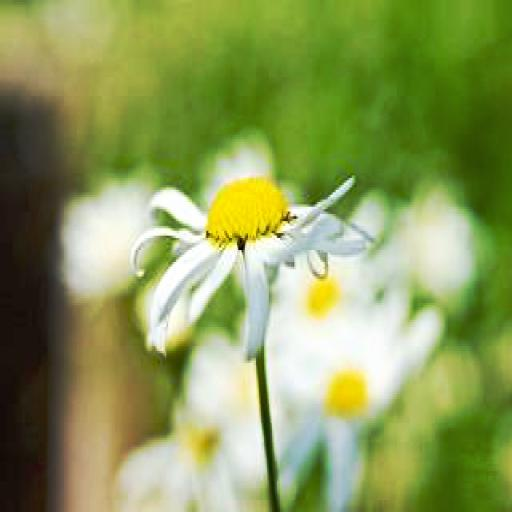daisy: (136, 173, 365, 346)
